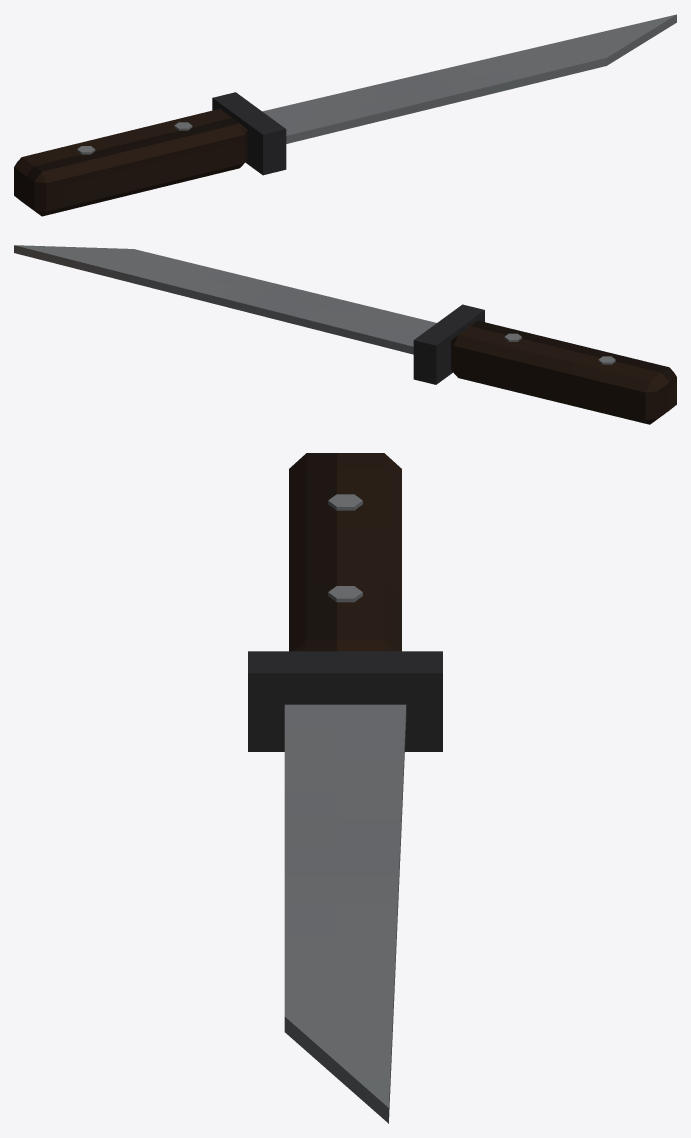
The model's file is knife.glb.
The picture shows the model from 3 angles, top to bottom: view 1: azimuth 30°, elevation 25°; view 2: azimuth 150°, elevation 25°; view 3: azimuth 270°, elevation 25°; orthographic projection. The views are drawn at different scales.
Visible parts, largest first — view 1: knife; view 2: knife; view 3: knife.
Part boxes in pixels (left/top/right/bottom): knife: left=14, top=14, right=676, bottom=216; knife: left=14, top=245, right=676, bottom=424; knife: left=248, top=453, right=442, bottom=1123.
Bounding box in the file's own units: 0.342 × 0.024 × 0.045.
Materials: 3 (3 with a texture image).
